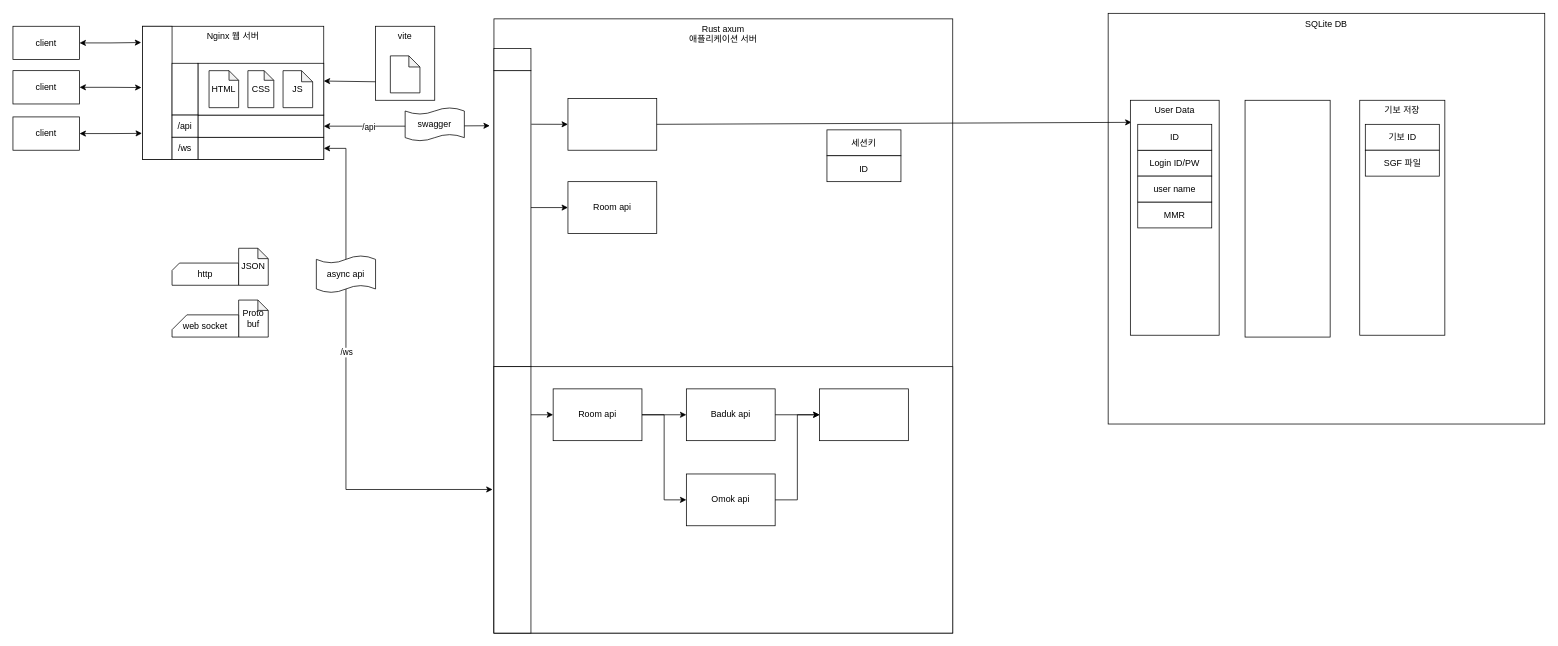
This 1558x646 diagram has some shape labels left out. Each missing label, with the centre of its shape:
"API" belongs at [260,125].
"Baduk board api" belongs at [863,414].
"get 요청" belongs at [184,89].
"http Router" belongs at [512,218].
"http 요청" belongs at [157,92].
"main" belongs at [512,59].
"TSX" belongs at [405,74].
"User api" belongs at [612,124].
"Web socket 연결" belongs at [260,148].
"ws Router" belongs at [512,499].
"세션 키 DB 예정" belongs at [1287,218].
